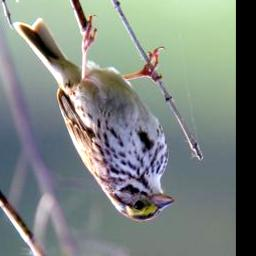Sparrow: (12, 14, 176, 223)
